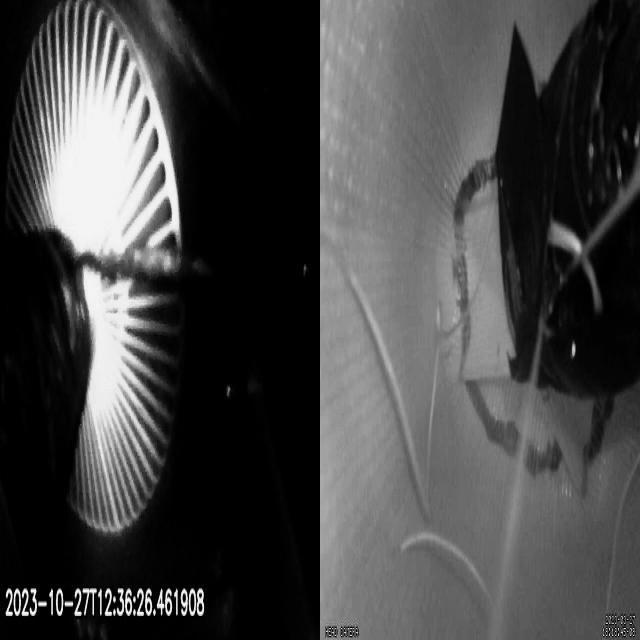red-circle: (452, 80, 613, 497)
